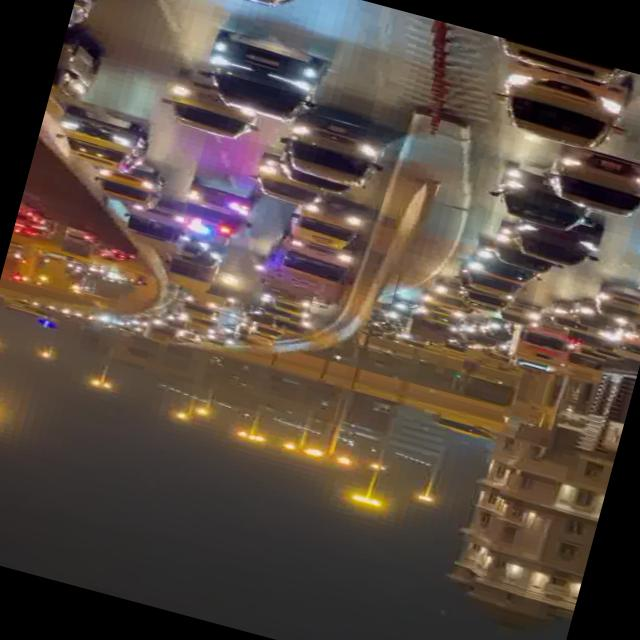ambulance: (172, 177, 265, 250)
